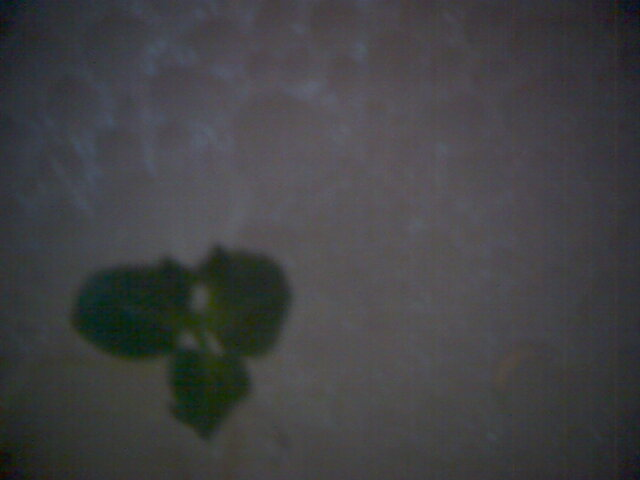lil_plant: (72, 209, 314, 450)
